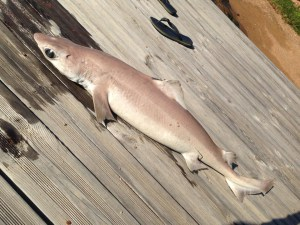shark: (18, 16, 282, 210)
